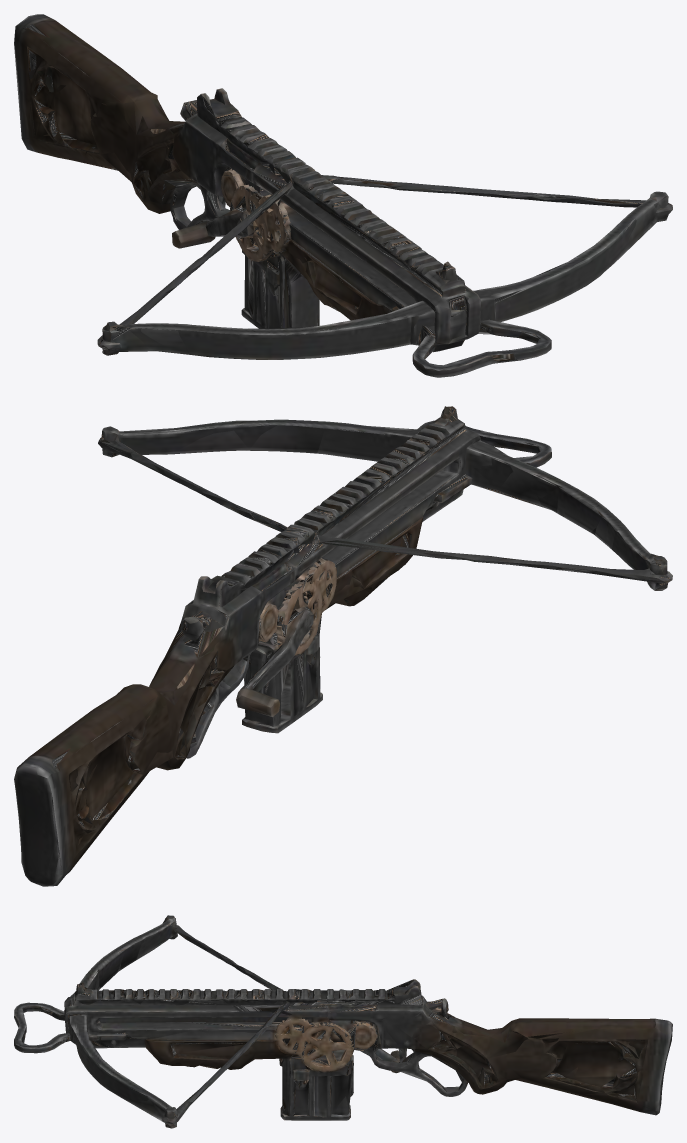
The model's file is repeating_arbalest.glb.
3 views of the same model, one above another, from view 1: azimuth 30°, elevation 25°; view 2: azimuth 150°, elevation 25°; view 3: azimuth 270°, elevation 25° (orthographic). The views are drawn at different scales.
Parts seen in each view (by area): view 1: model, mesh_lod; view 2: model, mesh_lod; view 3: model, mesh_lod.
Boxes of the visible parts, box(x1,y1,x2,y2) form: model: box(14, 14, 672, 377); mesh_lod: box(14, 21, 668, 372); model: box(14, 406, 672, 886); mesh_lod: box(18, 408, 671, 886); model: box(14, 915, 672, 1128); mesh_lod: box(16, 917, 663, 1128).
Bounding box in the file's own units: 0.6749 × 0.2099 × 0.95.
Materials: 1 (1 with a texture image).
